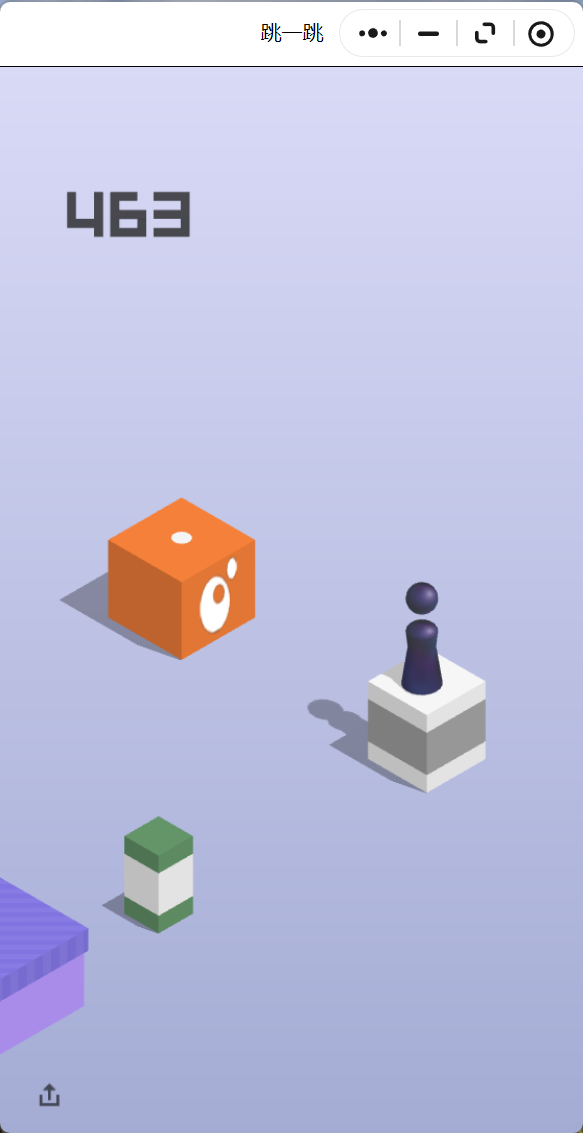piece: (406, 582, 437, 690)
target: (109, 498, 256, 581)
